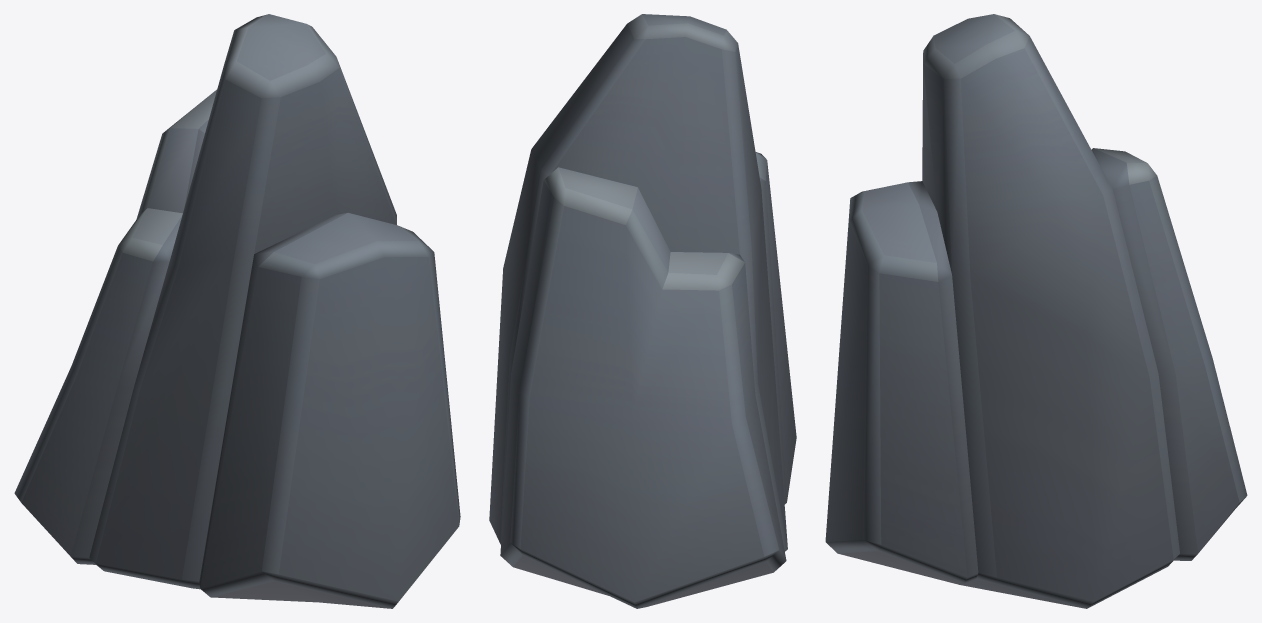
File: rock_012.fbx
3 renders of one model, left to right at view 1: azimuth 30°, elevation 25°; view 2: azimuth 150°, elevation 25°; view 3: azimuth 270°, elevation 25°, orthographic. The views are drawn at different scales.
Visible parts, largest first — view 1: rock_012; view 2: rock_012; view 3: rock_012.
Part boxes in pixels (box(x1,y1,x2,y2)): rock_012: box(14, 14, 460, 608); rock_012: box(489, 14, 796, 608); rock_012: box(825, 14, 1247, 608).
Bounding box in the file's own units: 171 × 289 × 202.
